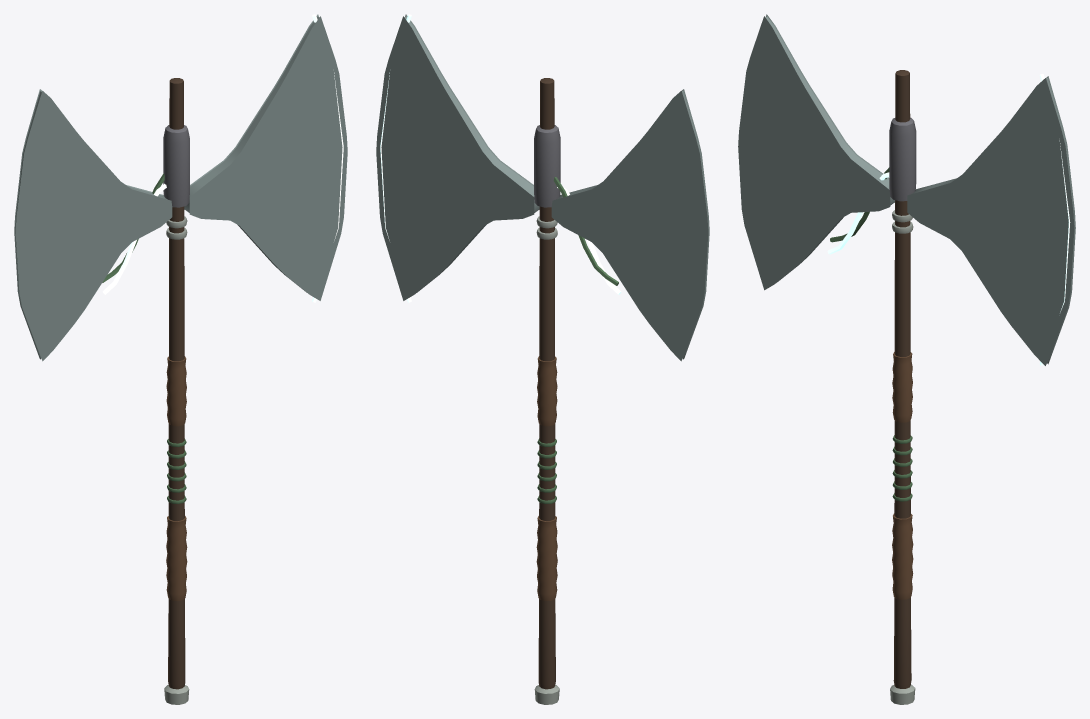
File: fa_gravewind_cleaver.glb
3 renders of one model, left to right at view 1: azimuth 30°, elevation 25°; view 2: azimuth 150°, elevation 25°; view 3: azimuth 330°, elevation 25°, orthographic.
Parts seen in each view (by area): view 1: fa_gravewind_cleaver; view 2: fa_gravewind_cleaver; view 3: fa_gravewind_cleaver.
Part boxes in pixels (bbox=[...]): fa_gravewind_cleaver: bbox=[14, 14, 347, 704]; fa_gravewind_cleaver: bbox=[376, 14, 709, 704]; fa_gravewind_cleaver: bbox=[738, 14, 1075, 704].
Bounding box in the file's own units: 0.9148 × 1.73 × 0.0609.
